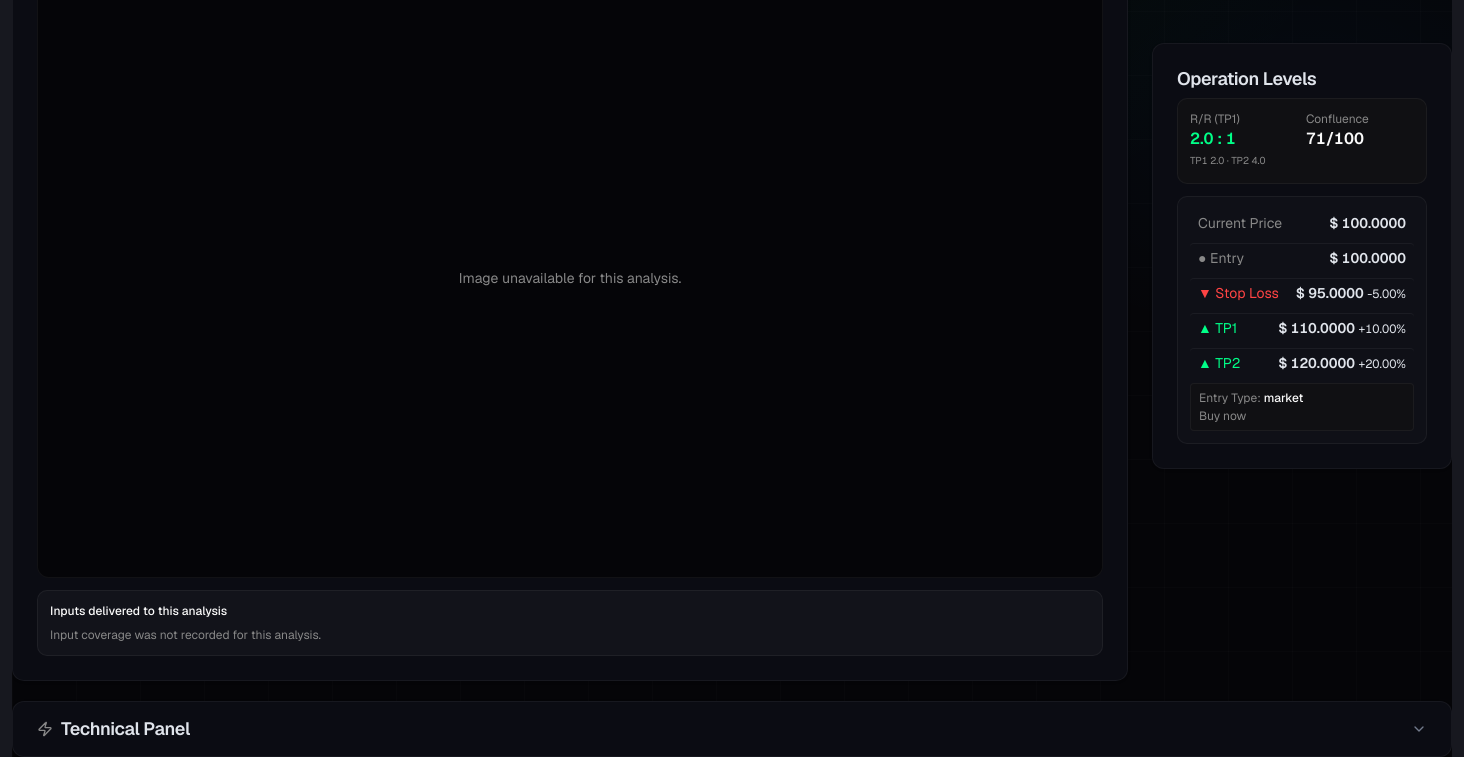
Test: C1 technical evidence caution presentation › keeps caution distinct from failure in en
(page scrolled)
Step 1. Click the button "Technical Panel" → (126, 729), box [13, 702, 1451, 756]
(page scrolled)
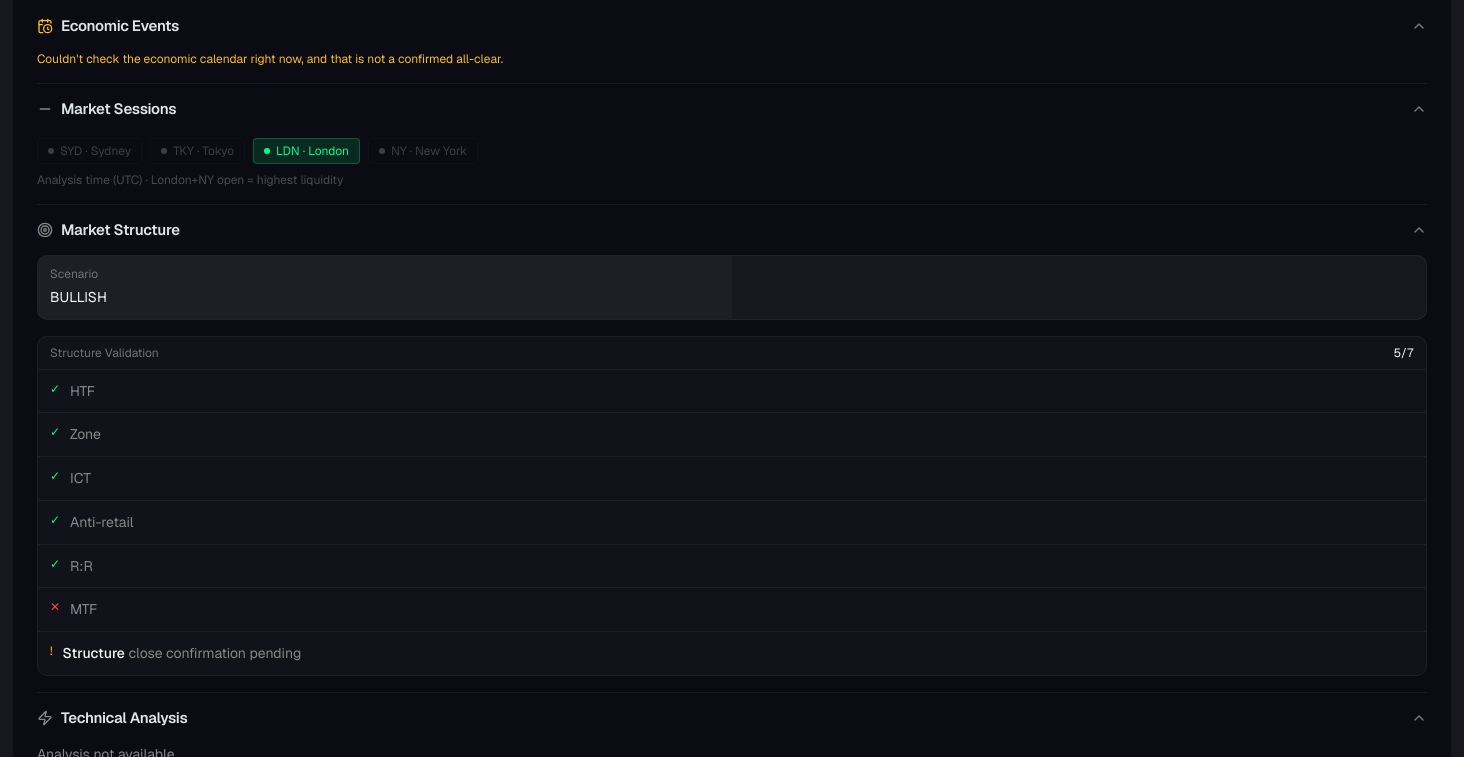
expect the text "!" is shown: met, box [50, 643, 53, 659]
expect the text "5/7" is shown: met, box [1394, 345, 1414, 361]
